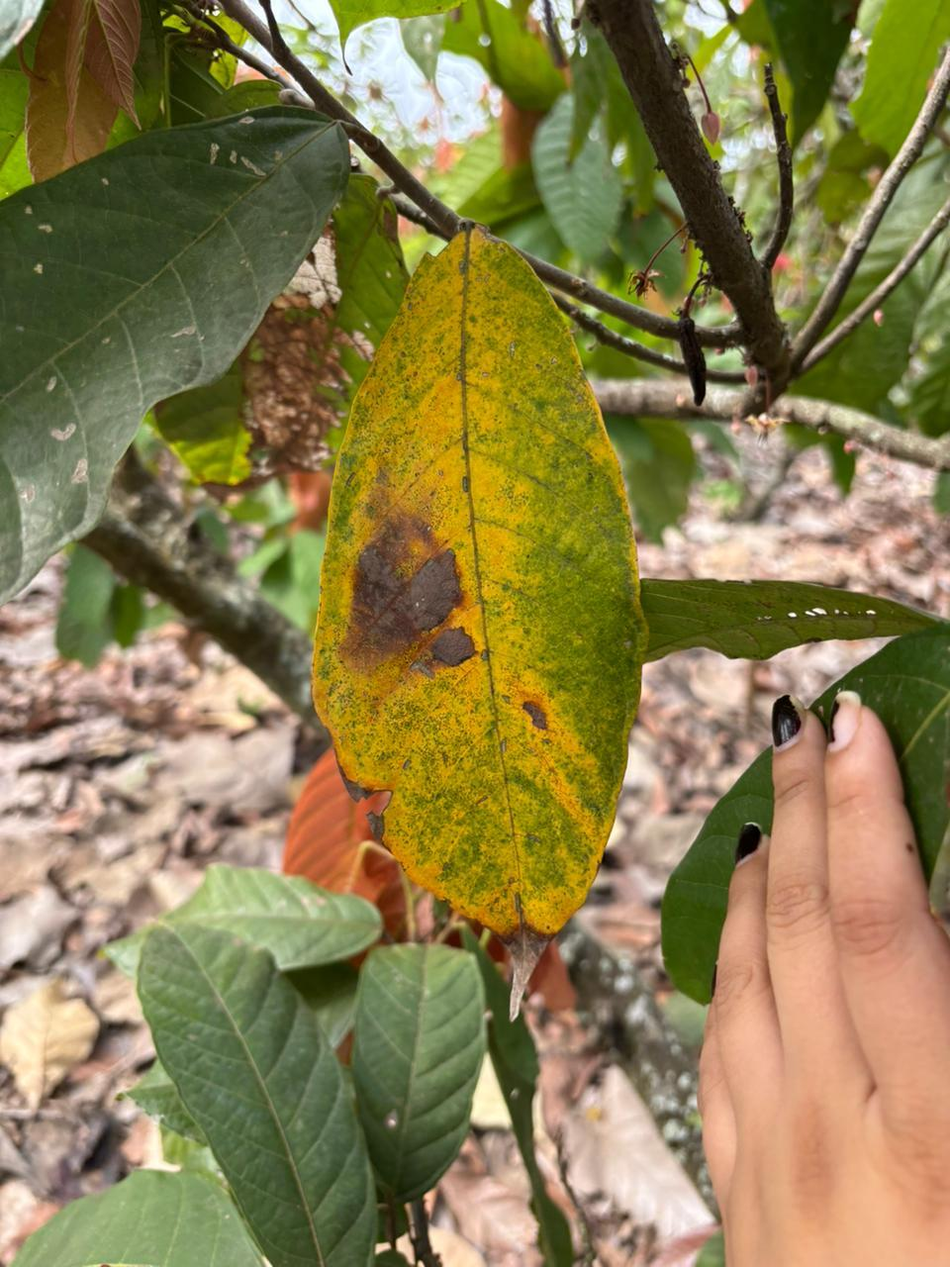deficienciia_fosforo: (315, 231, 645, 945)
